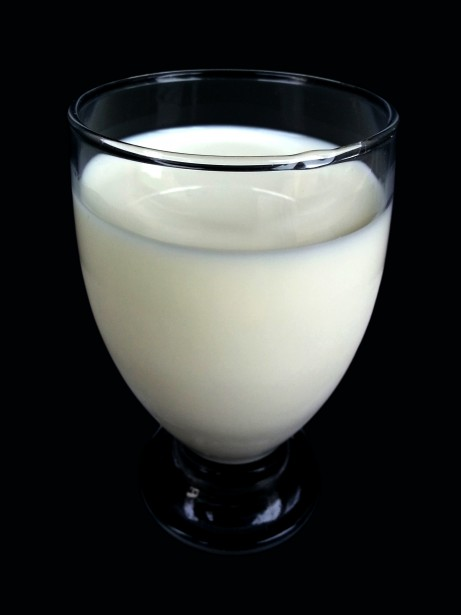glass of milk: (108, 97, 361, 465)
